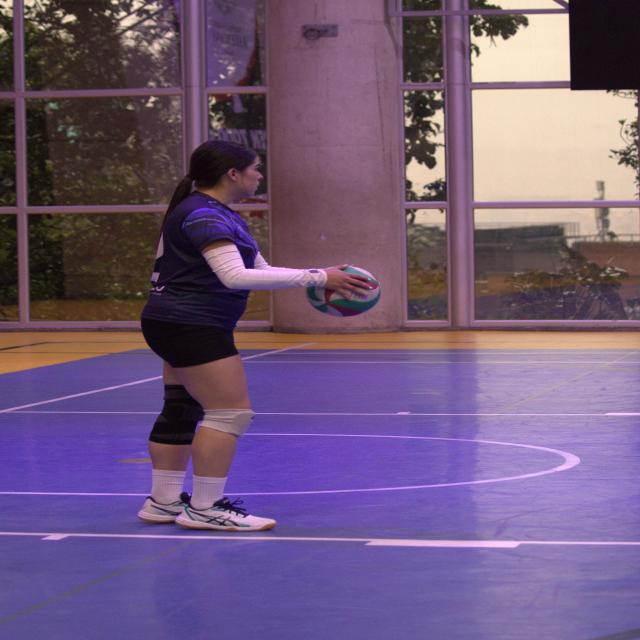volleyball: (308, 284, 380, 318)
